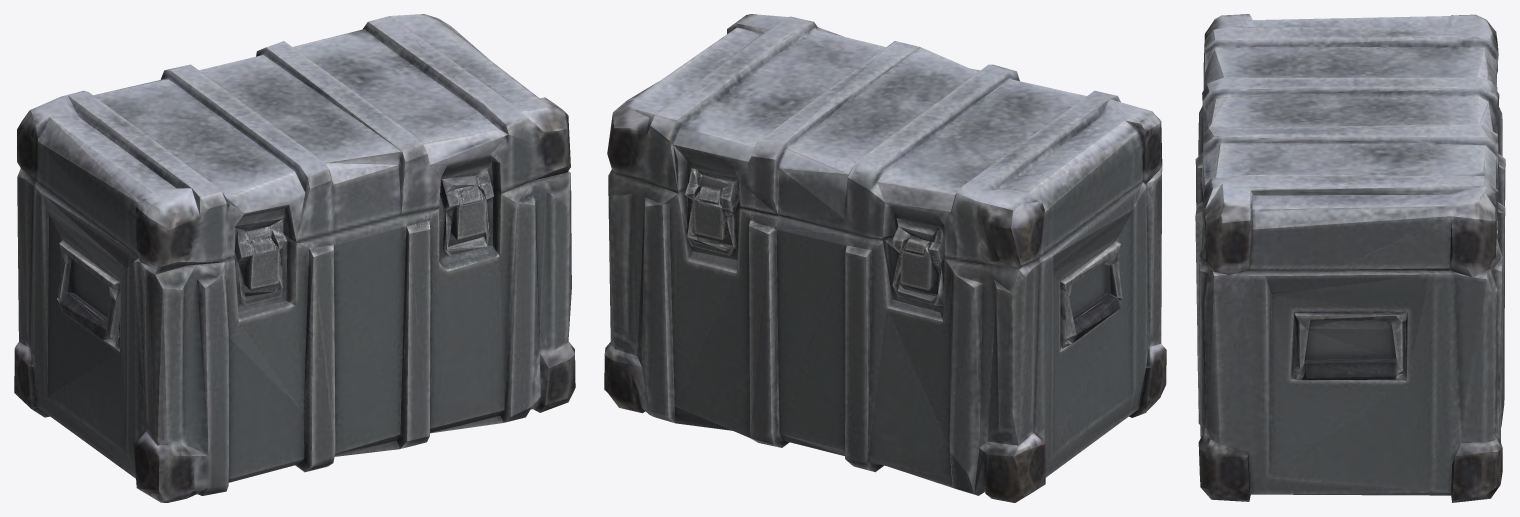
File: supply_crate.glb
3 views of the same model, side by side, from view 1: azimuth 30°, elevation 25°; view 2: azimuth 150°, elevation 25°; view 3: azimuth 270°, elevation 25° (orthographic).
Visible parts, largest first — view 1: Mesh_0; view 2: Mesh_0; view 3: Mesh_0.
Boxes of the visible parts, x1,y1,x2,y2 form: Mesh_0: [14, 14, 575, 502]; Mesh_0: [604, 14, 1166, 502]; Mesh_0: [1195, 14, 1505, 502].
Bounding box in the file's own units: 1.9 × 1.3 × 1.2.
Materials: 1 (1 with a texture image).
